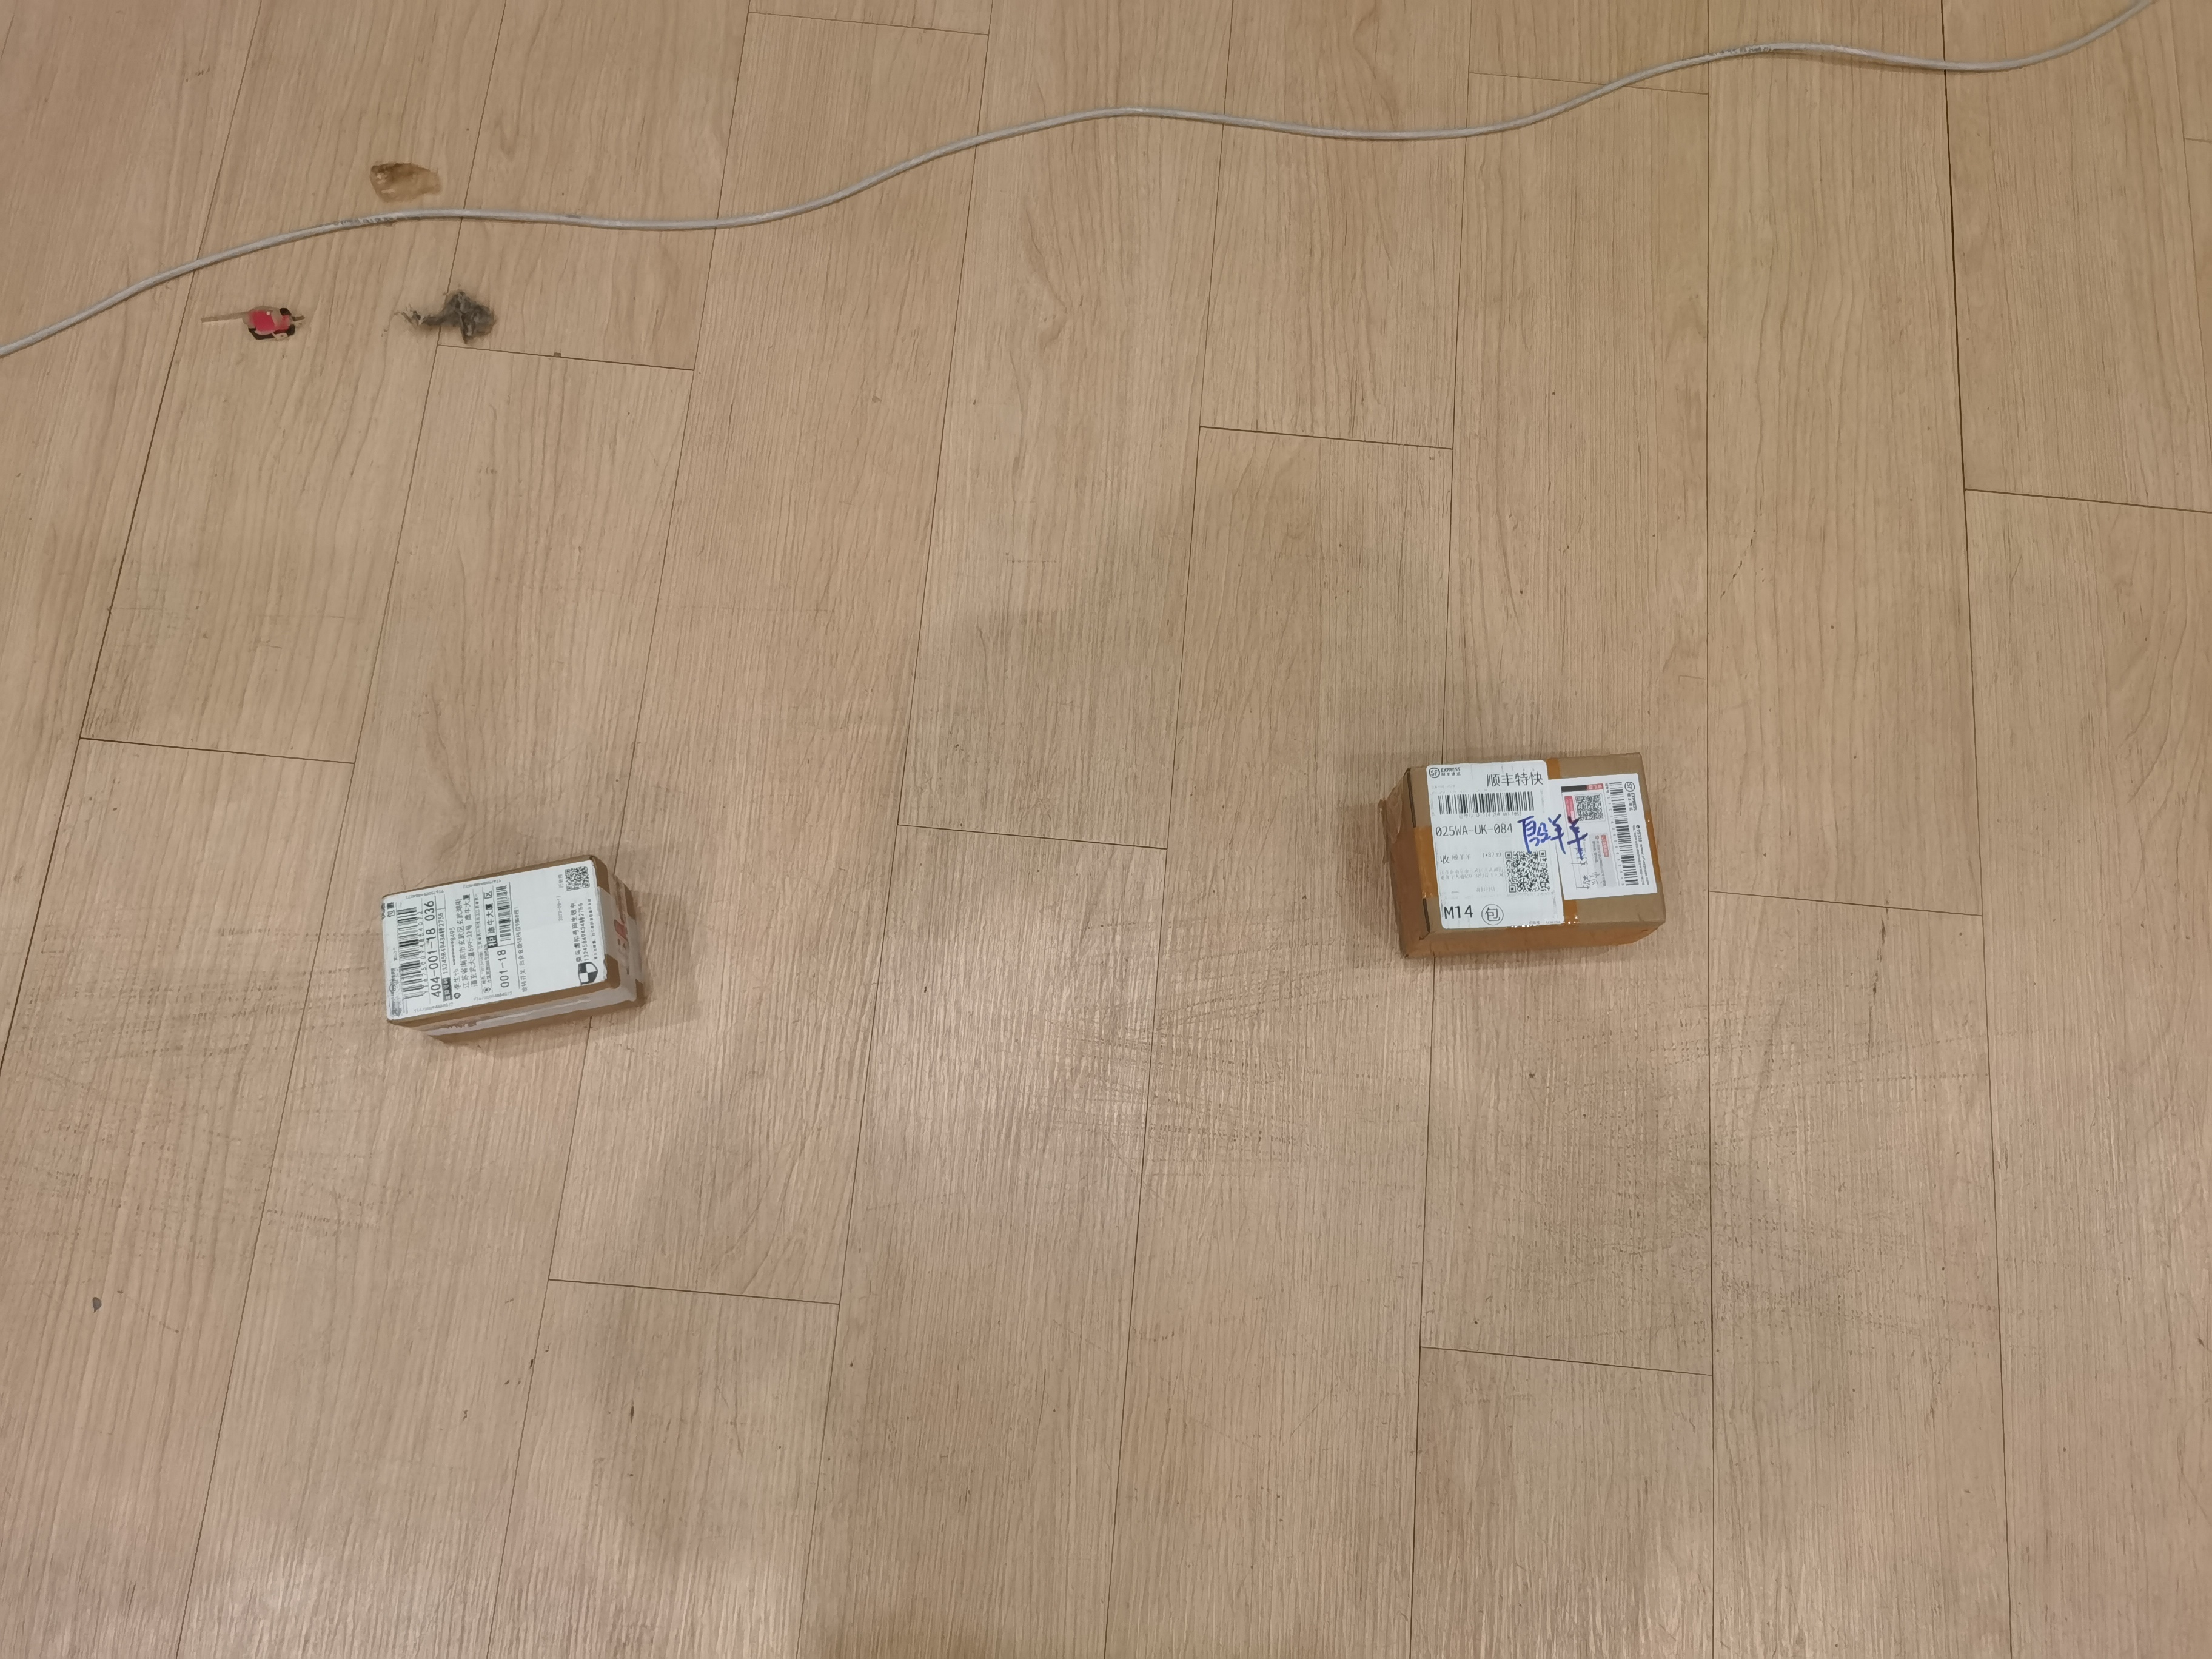box: (1376, 739, 1698, 981), (355, 859, 705, 1047)
